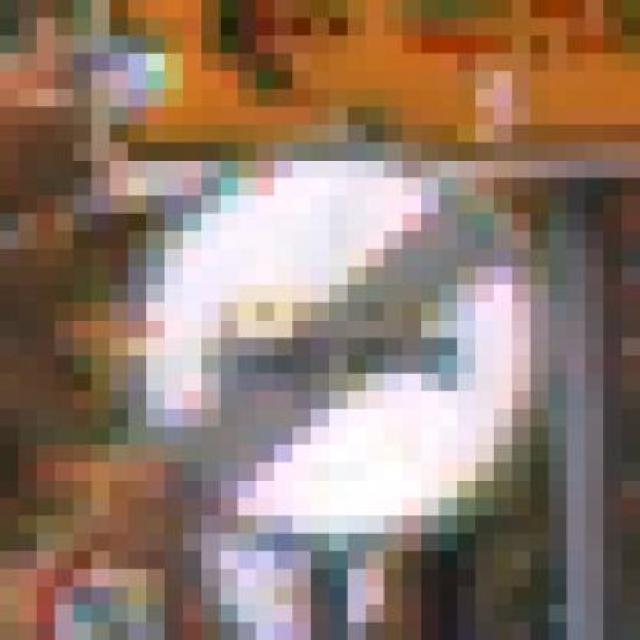No_Over_Taking: (54, 106, 586, 569)
